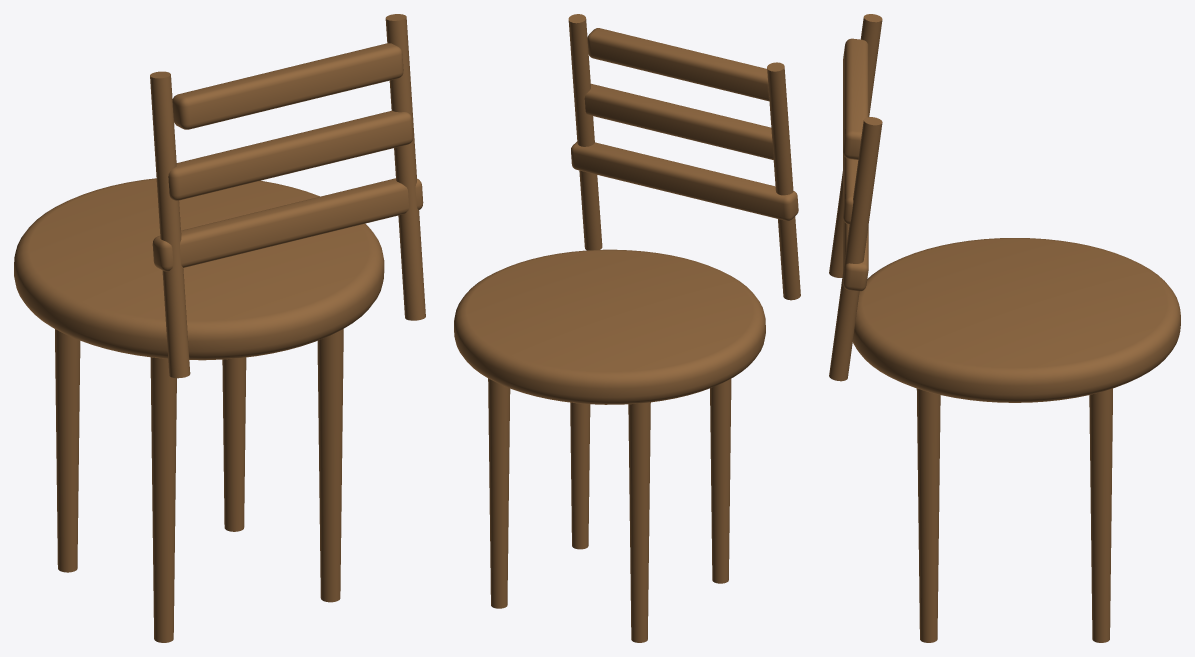
Rendered from modern_dining_chair.obj.
The picture shows the model from 3 angles, left to right: view 1: azimuth 30°, elevation 25°; view 2: azimuth 150°, elevation 25°; view 3: azimuth 270°, elevation 25°; orthographic projection. The views are drawn at different scales.
Parts seen in each view (by area): view 1: seat, back_slat_0, back_slat_1, back_slat_2, leg.002, leg.003, post, leg.001, post.001, leg; view 2: seat, back_slat_0, back_slat_1, back_slat_2, leg.001, leg, leg.002, post, post.001, leg.003; view 3: seat, leg.003, leg, post.001, back_slat_2, post, back_slat_0, back_slat_1.
Part boxes in pixels (<box>): seat: <box>14,178,384,360</box>; back_slat_0: <box>152,178,423,271</box>; back_slat_1: <box>168,110,413,200</box>; back_slat_2: <box>172,43,403,129</box>; leg.002: <box>150,357,176,642</box>; leg.003: <box>317,329,343,602</box>; post: <box>150,71,190,378</box>; leg.001: <box>55,329,80,572</box>; post.001: <box>385,14,425,320</box>; leg: <box>222,357,246,531</box>; seat: <box>454,249,765,404</box>; back_slat_0: <box>571,141,798,220</box>; back_slat_1: <box>584,83,773,159</box>; back_slat_2: <box>587,28,769,101</box>; leg.001: <box>628,402,650,642</box>; leg: <box>488,378,510,608</box>; leg.002: <box>710,379,731,583</box>; post: <box>767,62,800,300</box>; post.001: <box>568,14,602,250</box>; leg.003: <box>570,402,590,549</box>; seat: <box>852,238,1180,402</box>; leg.003: <box>916,388,940,642</box>; leg: <box>1089,388,1112,642</box>; post.001: <box>829,117,882,381</box>; back_slat_2: <box>843,38,868,159</box>; post: <box>829,14,882,277</box>; back_slat_0: <box>843,219,868,291</box>; back_slat_1: <box>843,154,858,224</box>.
Bounding box in the file's own units: 0.49 × 0.8701 × 0.5195.
